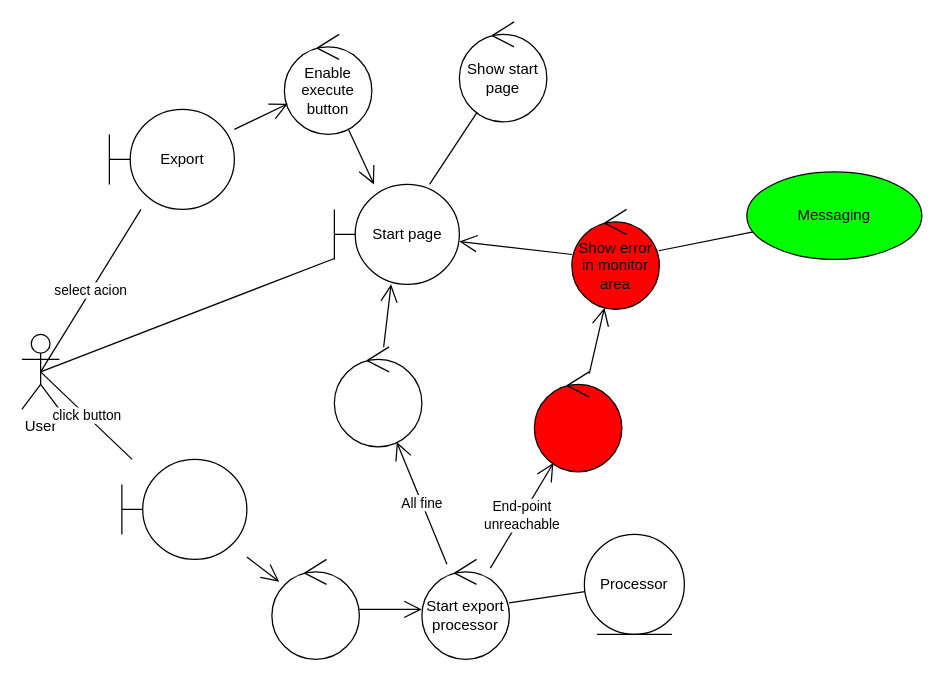
Some shapes in this 944 by 681 pixel diagram are drawn without their labels. Each missing label, with the centre of its shape:
"Disable execute button" goes at pixel 315 608.
"Execute" goes at pixel 184 508.
"Stop processing" goes at pixel 577 421.
"Update progress bar" goes at pixel 377 396.
